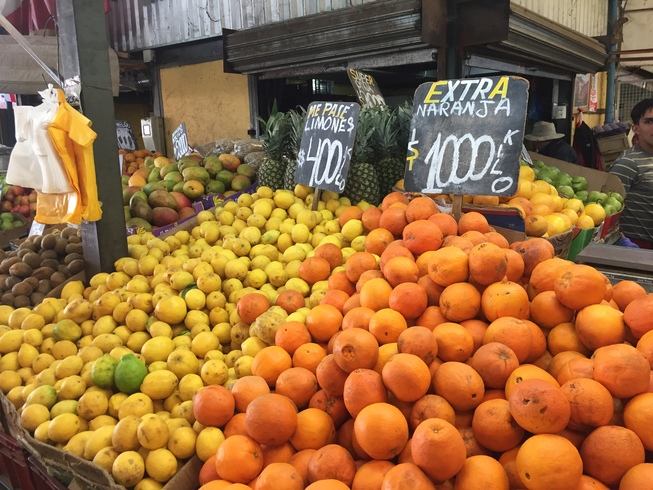precio: (413, 79, 521, 189), (291, 100, 360, 200), (349, 68, 392, 123), (169, 122, 194, 163)
